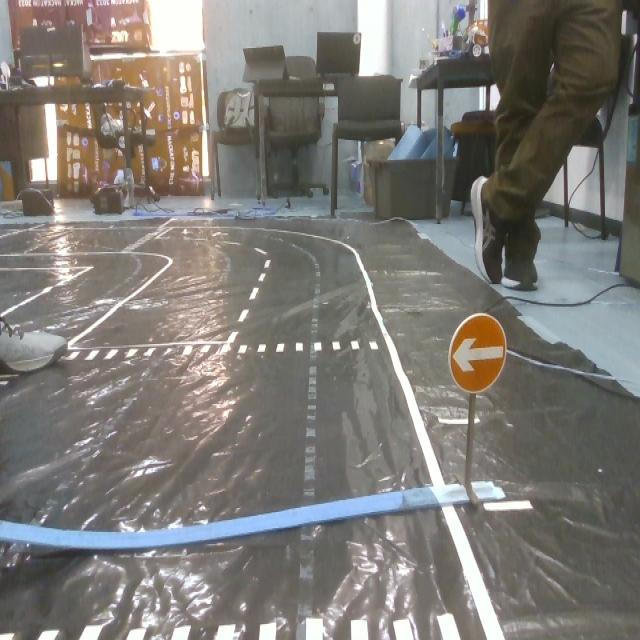forward: (444, 310, 514, 397)
